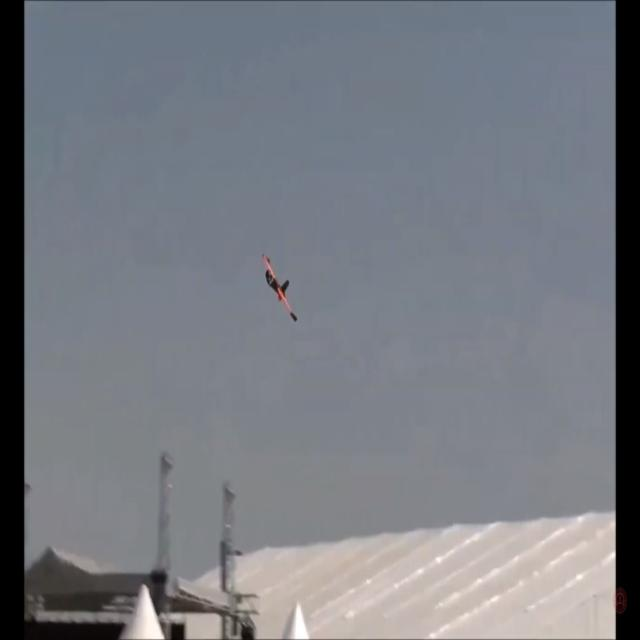iha: (262, 285, 297, 291)
